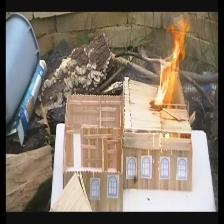fire: (145, 13, 195, 105)
